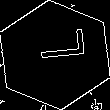L_W: (26, 37, 84, 73)
